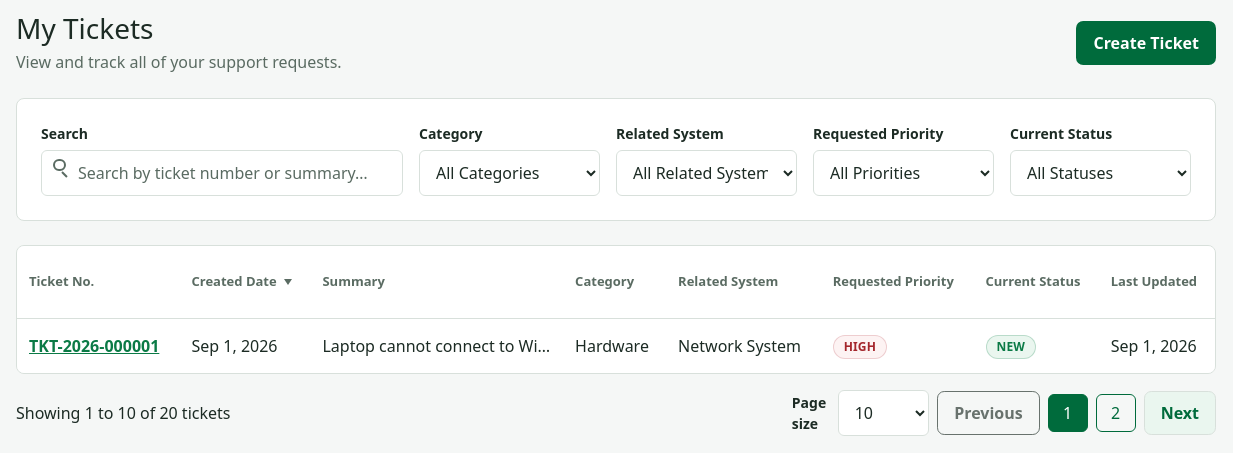
it: MyTickets › pagination › loads the next page when Next is clicked
Expected: the link "TKT-2026-000001" is shown, [29,335,159,357]
Click the button "Next" at (1180, 413), box [1144,391,1216,435]
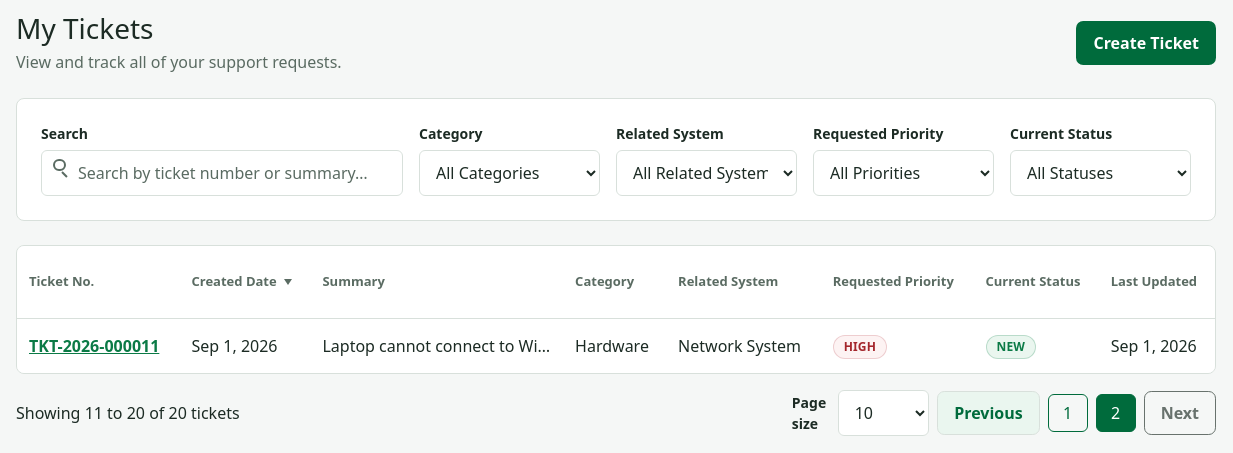
Result: the link "TKT-2026-000011" is shown at [29,335,159,357]
